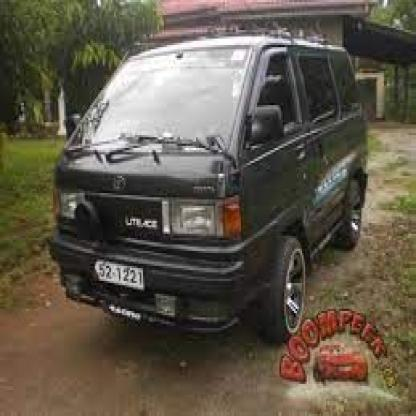number plate: (93, 259, 147, 290)
van front: (45, 30, 374, 340)
